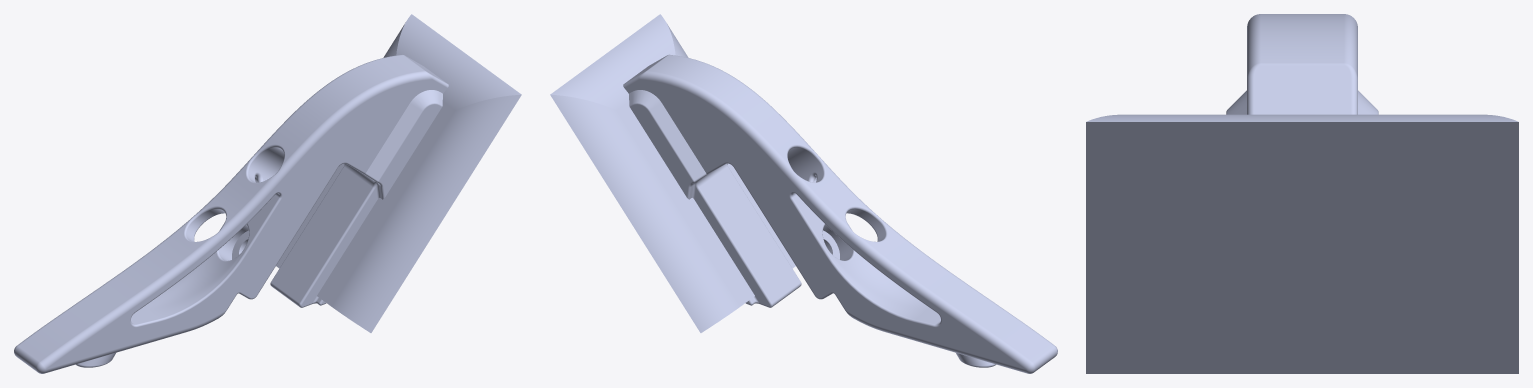
3 views of the same model, side by side, from view 1: azimuth 30°, elevation 25°; view 2: azimuth 150°, elevation 25°; view 3: azimuth 270°, elevation 25° (orthographic). The views are drawn at different scales.
Parts seen in each view (by area): view 1: 본체1; view 2: 본체1; view 3: 본체1.
Boxes of the visible parts, box(x1,y1,x2,y2) form: 본체1: box(14, 14, 521, 373); 본체1: box(550, 14, 1057, 373); 본체1: box(1086, 14, 1518, 373).
Size of the model in its own units: 72.06 by 34.54 by 31.2.
